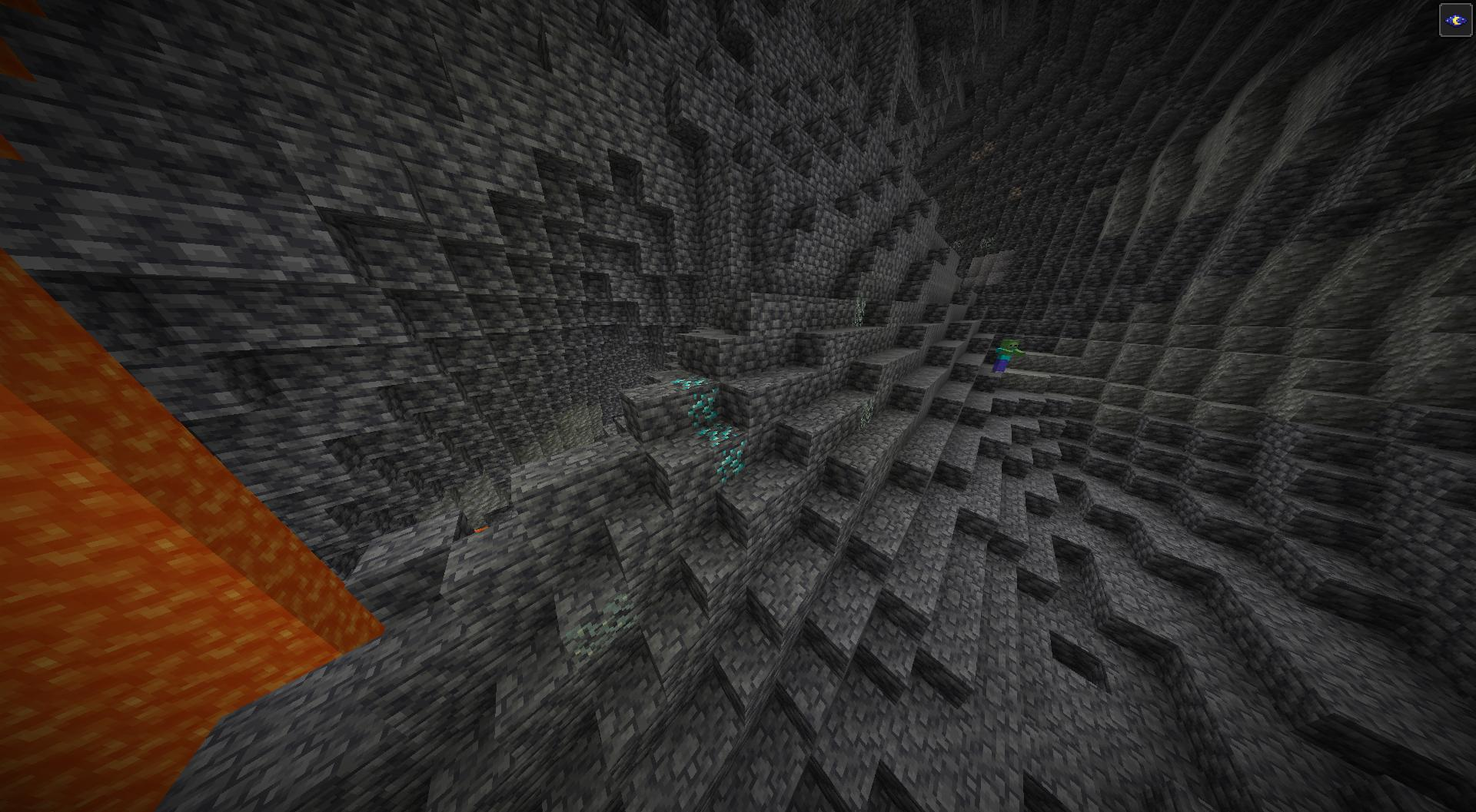diamond ore: (690, 388, 724, 429), (717, 442, 749, 483), (693, 423, 741, 447), (674, 373, 711, 392)
iron ore: (968, 139, 998, 166), (1007, 182, 1026, 199)
